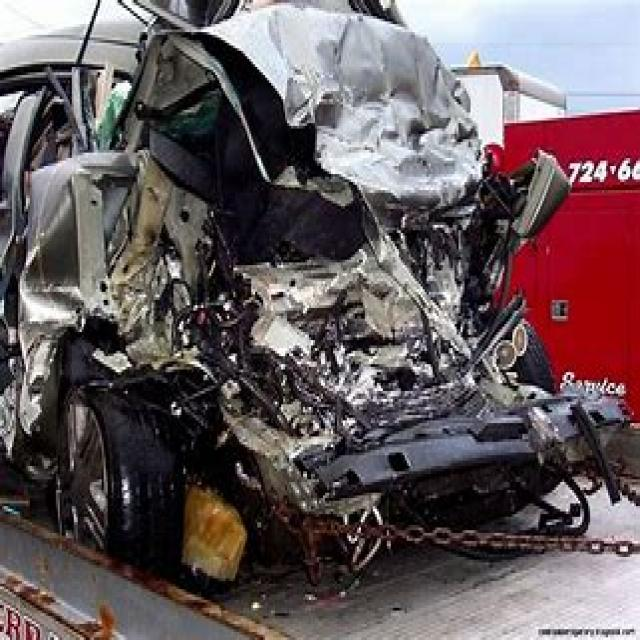Accident: (25, 19, 633, 594)
